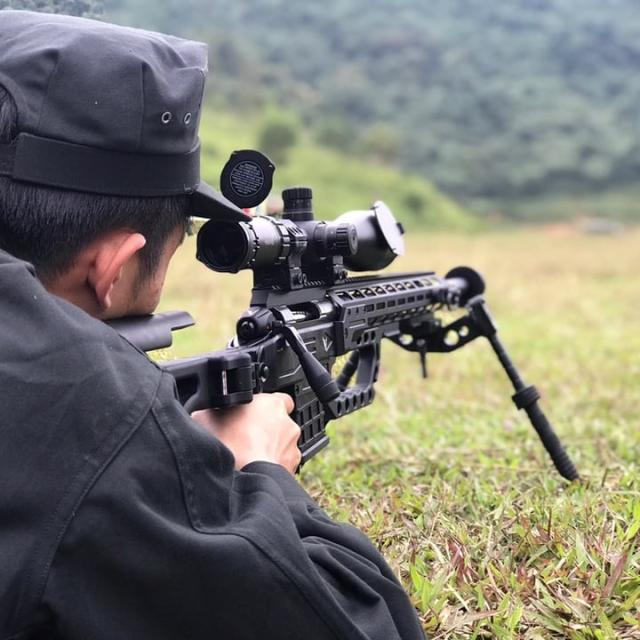Rifle: (105, 188, 486, 468)
